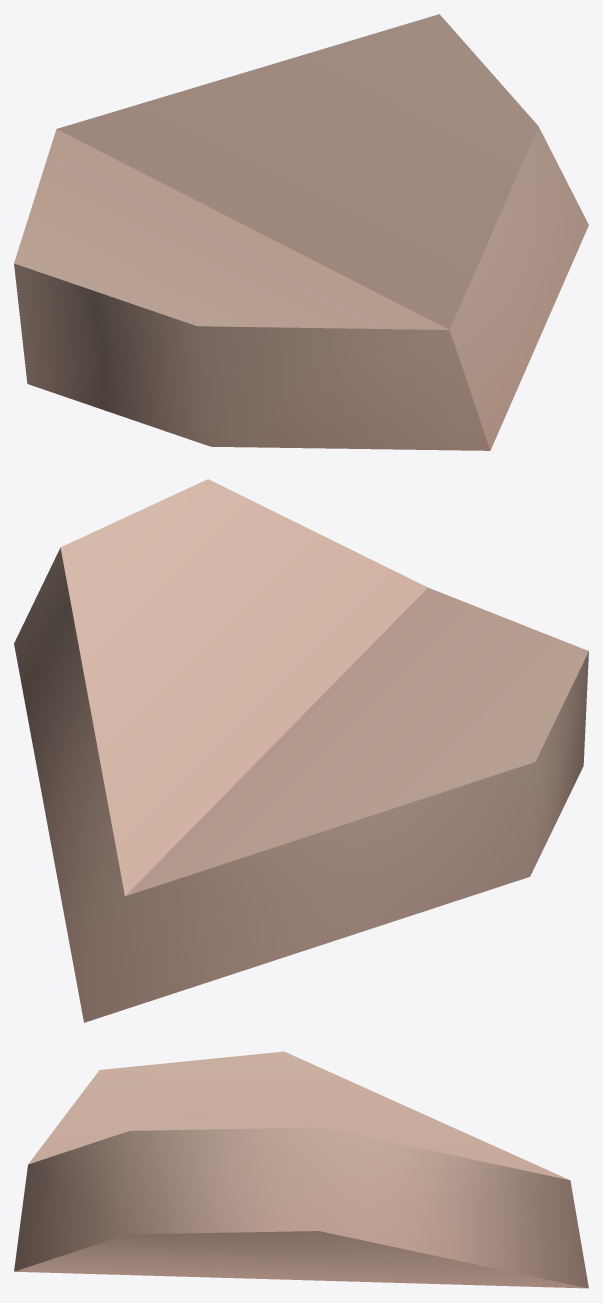
Rendered from (%no-merge) 50.glb.
3 views of the same model, one above another, from view 1: azimuth 30°, elevation 25°; view 2: azimuth 150°, elevation 25°; view 3: azimuth 270°, elevation 25° (orthographic). The views are drawn at different scales.
Visible parts, largest first — view 1: (%no-merge) 50; view 2: (%no-merge) 50; view 3: (%no-merge) 50.
Part boxes in pixels (x1=…): (%no-merge) 50: x1=14, y1=14, x2=588, y2=450; (%no-merge) 50: x1=14, y1=479, x2=588, y2=1022; (%no-merge) 50: x1=14, y1=1051, x2=588, y2=1288.
Bounding box in the file's own units: 0.141 × 0.0816 × 0.1808.
